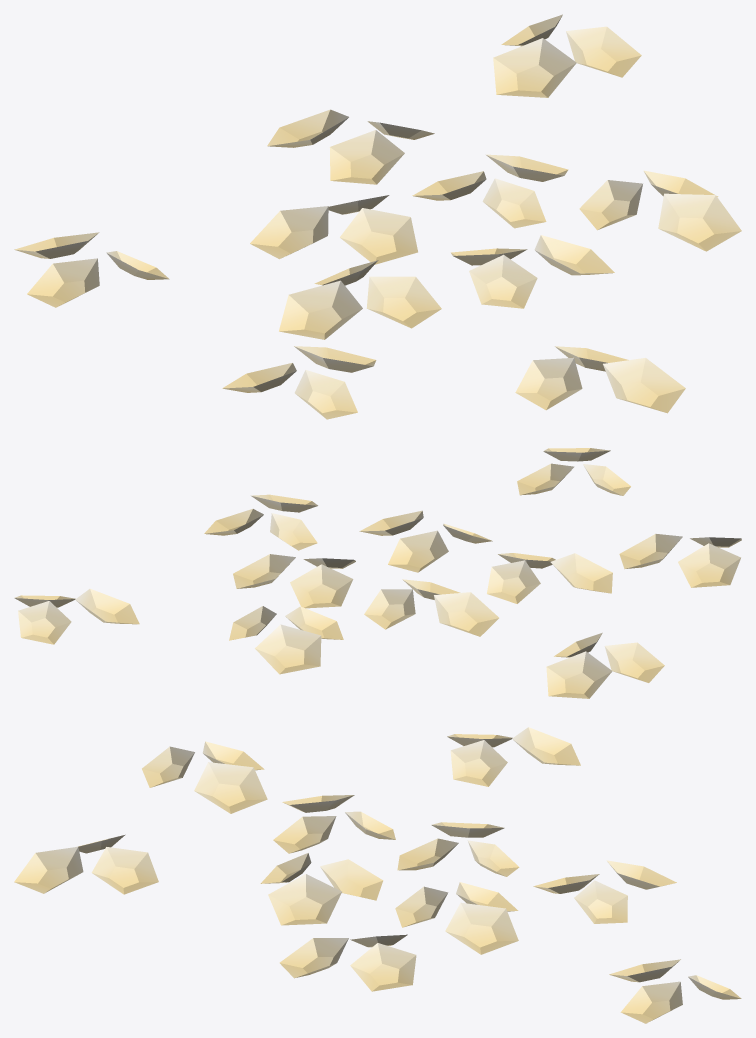
Rendered from Blumengruppe_M.glb.
The picture shows the model from 3 angles, top to bottom: view 1: azimuth 30°, elevation 25°; view 2: azimuth 150°, elevation 25°; view 3: azimuth 270°, elevation 25°; orthographic projection. The views are drawn at different scales.
Parts seen in each view (by area): view 1: Cylinder.006; view 2: Cylinder.006; view 3: Cylinder.006.
Boxes of the visible parts, x1,y1,x2,y2 form: Cylinder.006: [14, 14, 741, 419]; Cylinder.006: [14, 448, 741, 698]; Cylinder.006: [14, 727, 741, 1023].
Bounding box in the file's own units: 3.67 × 0.1634 × 3.87.
Materials: 1 (1 with a texture image).
